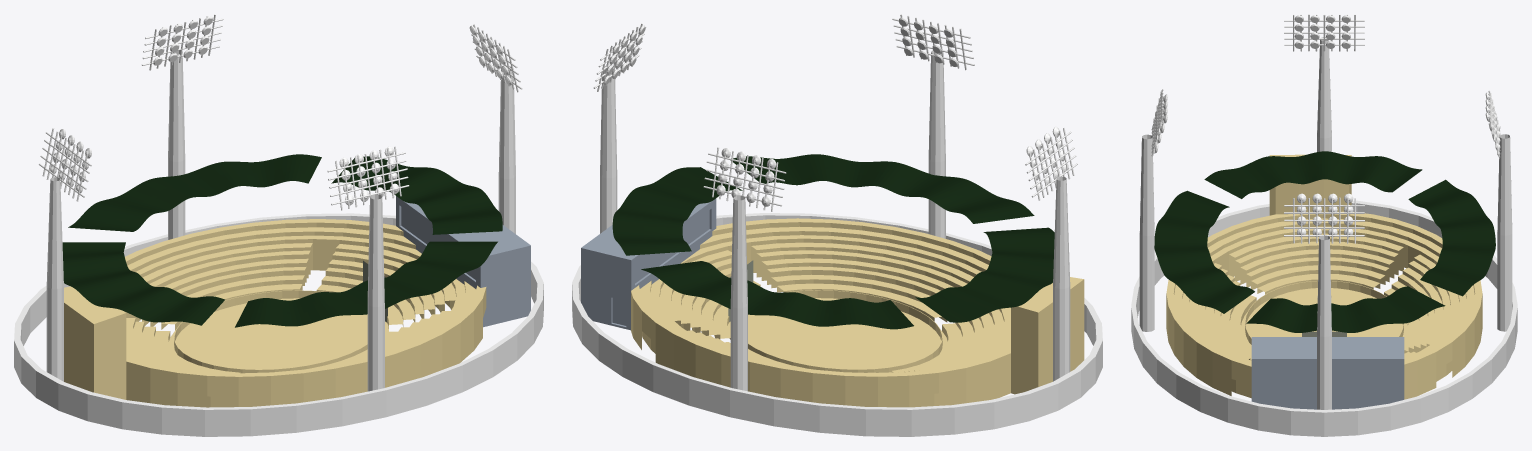
The model's file is stadion.glb.
3 renders of one model, left to right at view 1: azimuth 30°, elevation 25°; view 2: azimuth 150°, elevation 25°; view 3: azimuth 270°, elevation 25°, orthographic. The views are drawn at different scales.
Visible parts, largest first — view 1: sports stadium; view 2: sports stadium; view 3: sports stadium.
Part boxes in pixels (box(x1,y1,x2,y2)): sports stadium: box(14, 14, 543, 436); sports stadium: box(572, 14, 1102, 436); sports stadium: box(1131, 14, 1517, 436).
Size of the model in its own units: 4772 by 2370 by 3653.
